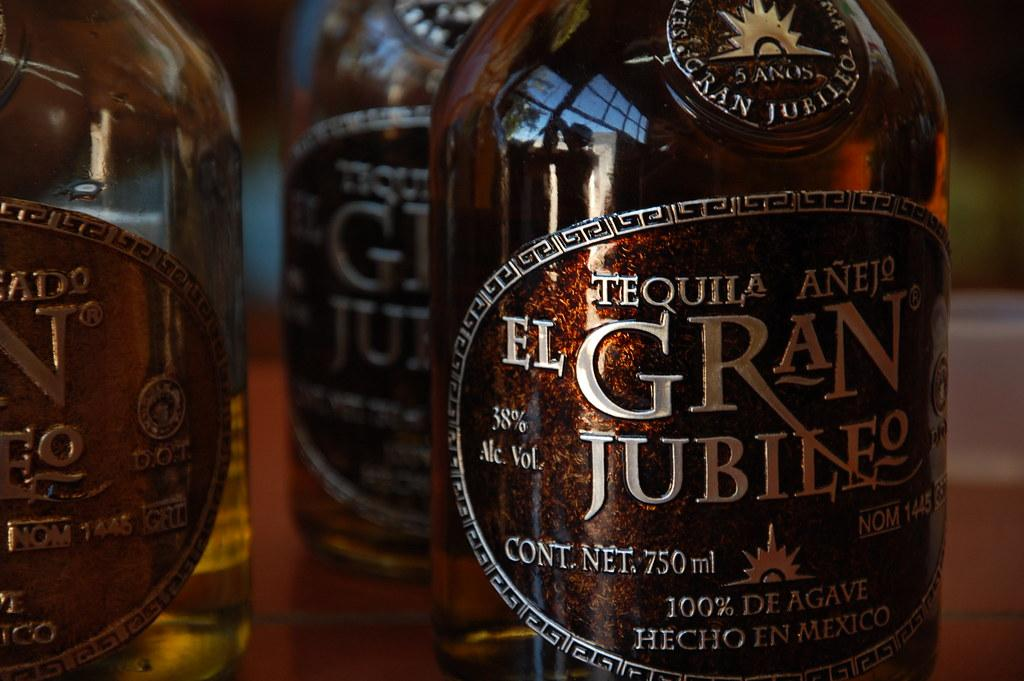bottle: (427, 1, 953, 681), (1, 1, 254, 681), (277, 1, 492, 582)
